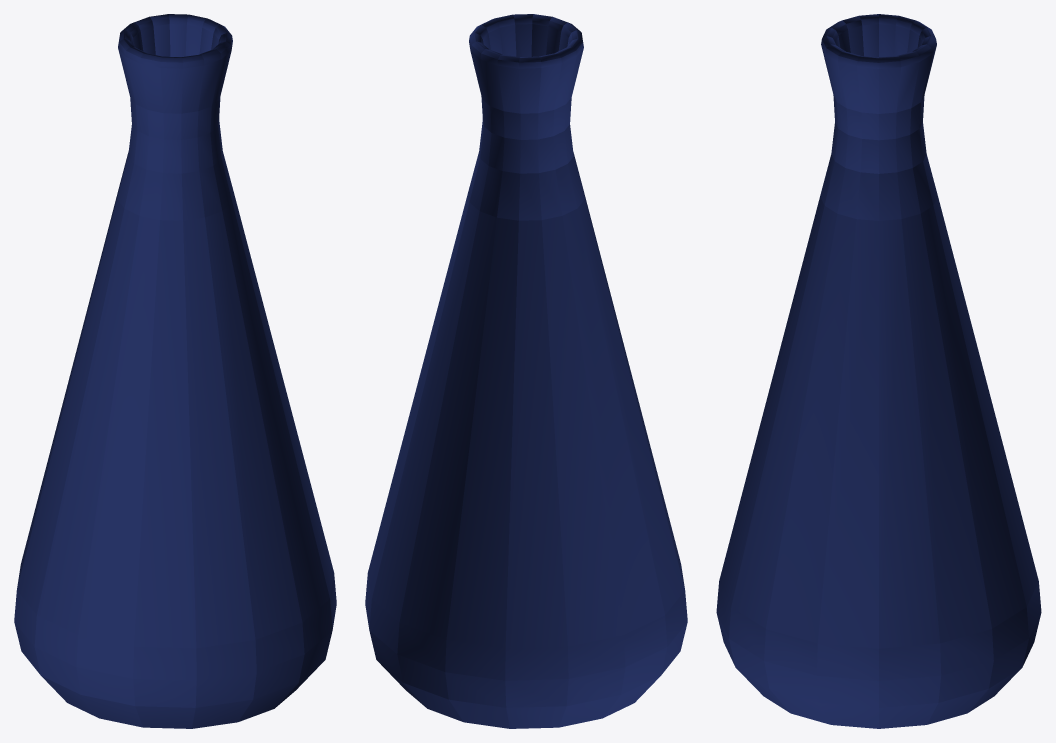
Rendered from Small Bottle 2.fbx.
3 views of the same model, side by side, from view 1: azimuth 30°, elevation 25°; view 2: azimuth 150°, elevation 25°; view 3: azimuth 270°, elevation 25° (orthographic).
Visible parts, largest first — view 1: Node 0; view 2: Node 0; view 3: Node 0.
Part boxes in pixels (box(x1,y1,x2,y2)): Node 0: box(14, 14, 336, 728); Node 0: box(365, 14, 687, 728); Node 0: box(716, 14, 1041, 728).
Size of the model in its own units: 0.1492 by 0.3305 by 0.1492.
